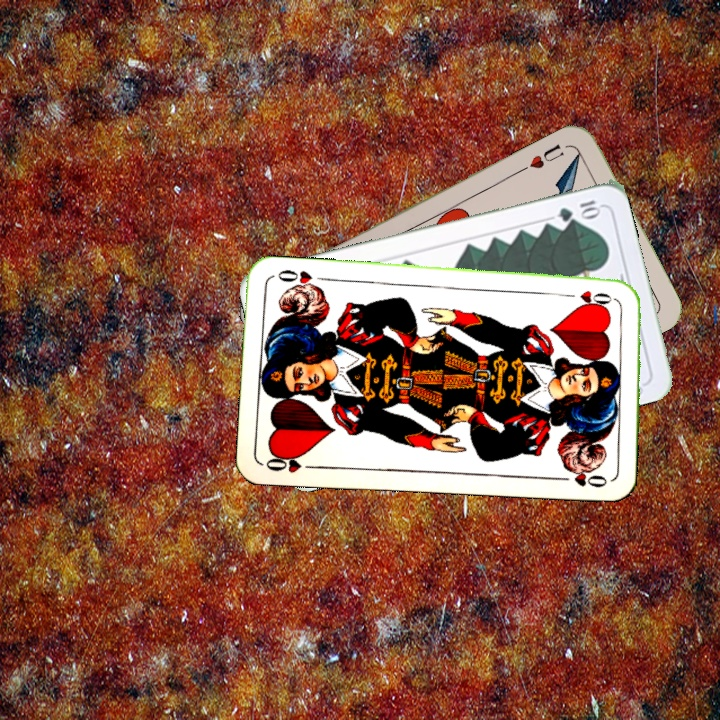G10: (554, 196, 603, 224)
HO: (262, 449, 320, 476), (560, 287, 619, 308)
HU: (525, 139, 566, 172)
